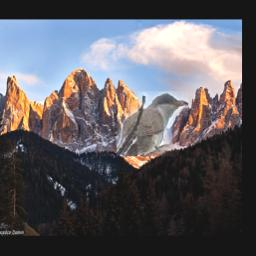Cuckoo: (117, 92, 188, 157)
